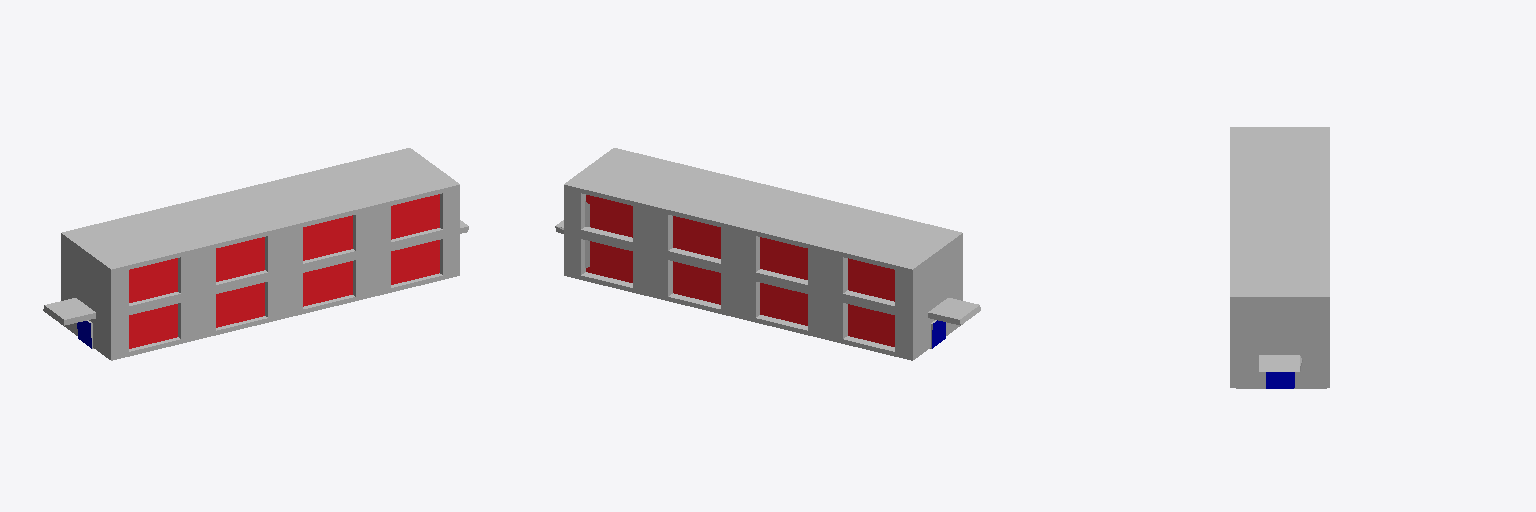
File: 중앙창고.obj
3 renders of one model, left to right at view 1: azimuth 30°, elevation 25°; view 2: azimuth 150°, elevation 25°; view 3: azimuth 270°, elevation 25°, orthographic.
Parts seen in each view (by area): view 1: 중앙창고_큐브.008; view 2: 중앙창고_큐브.008; view 3: 중앙창고_큐브.008.
Boxes of the visible parts, x1,y1,x2,y2 form: 중앙창고_큐브.008: [43, 148, 468, 360]; 중앙창고_큐브.008: [555, 148, 980, 360]; 중앙창고_큐브.008: [1230, 127, 1329, 388].
Size of the model in its own units: 9.29 by 2.03 by 2.